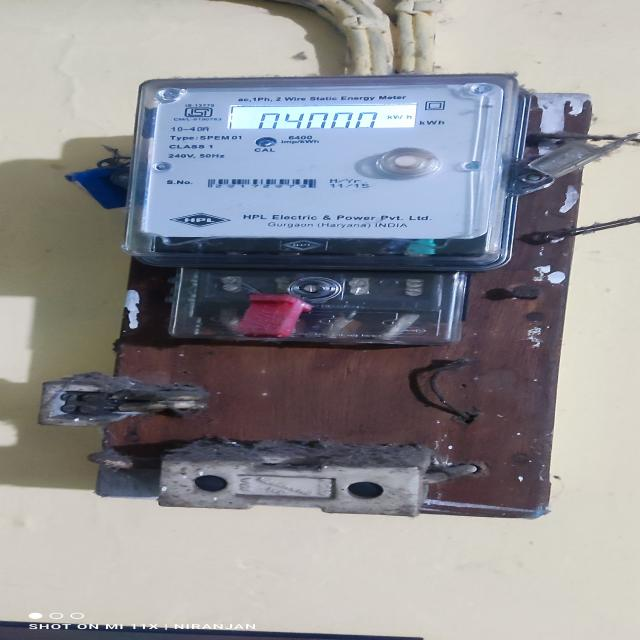display: (210, 101, 430, 134)
